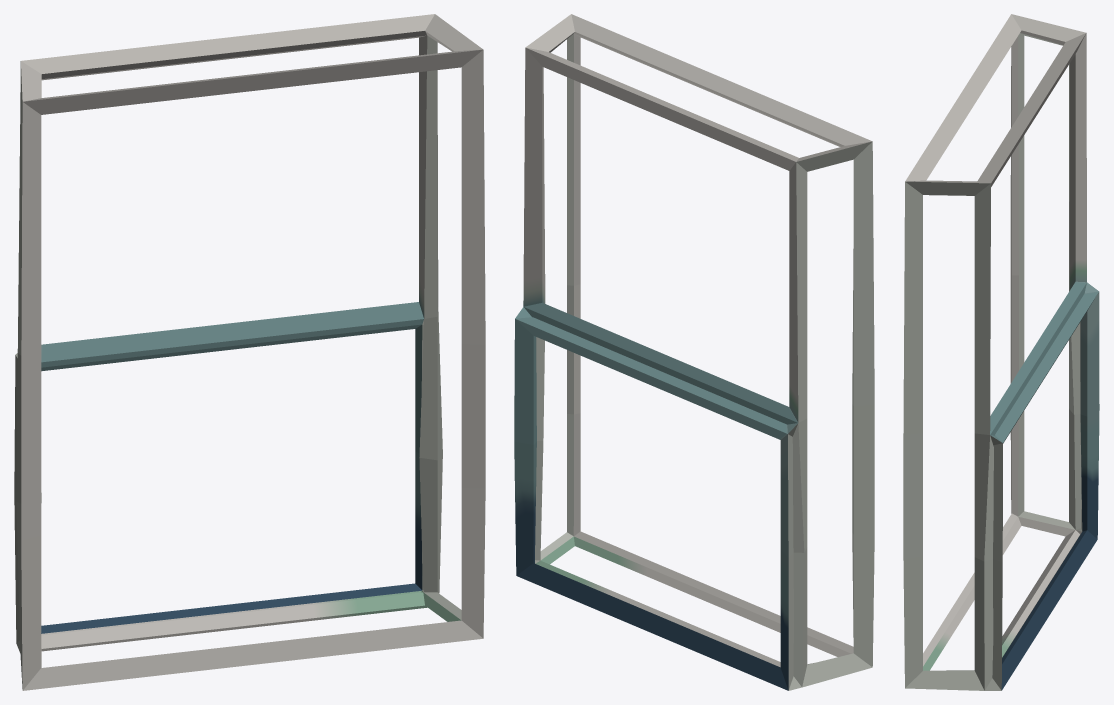
File: hollow_wall.fbx
3 views of the same model, side by side, from view 1: azimuth 30°, elevation 25°; view 2: azimuth 150°, elevation 25°; view 3: azimuth 270°, elevation 25° (orthographic). The views are drawn at different scales.
Parts seen in each view (by area): view 1: plain_wall; view 2: plain_wall; view 3: plain_wall.
Boxes of the visible parts, <box> form: plain_wall: <box>14,14,485,690</box>; plain_wall: <box>514,14,874,690</box>; plain_wall: <box>903,14,1099,690</box>.
Size of the model in its own units: 118 by 164 by 57.28.
Materials: 1 (1 with a texture image).
